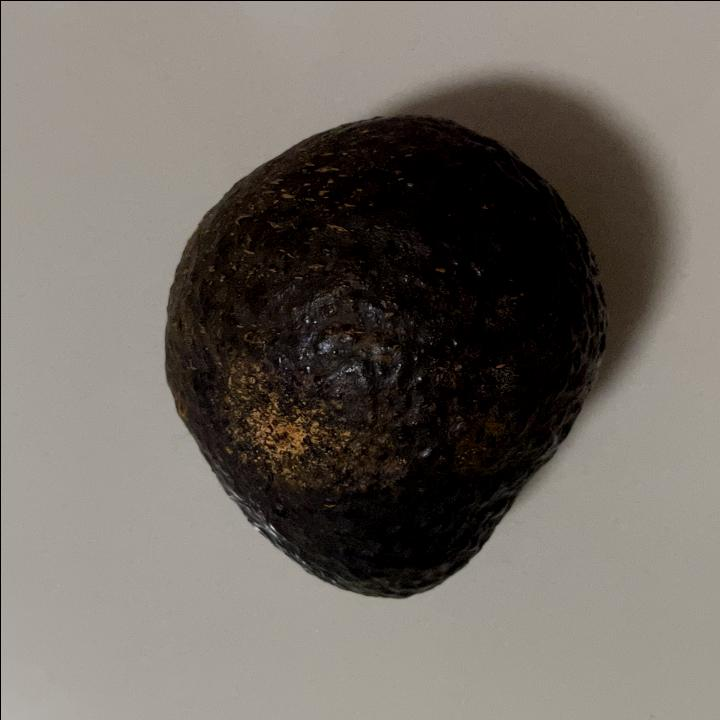Level3: (148, 108, 618, 610)
